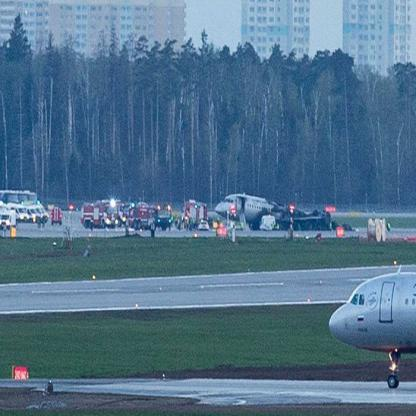CIV_Plane: (324, 264, 416, 390), (212, 188, 341, 237)
